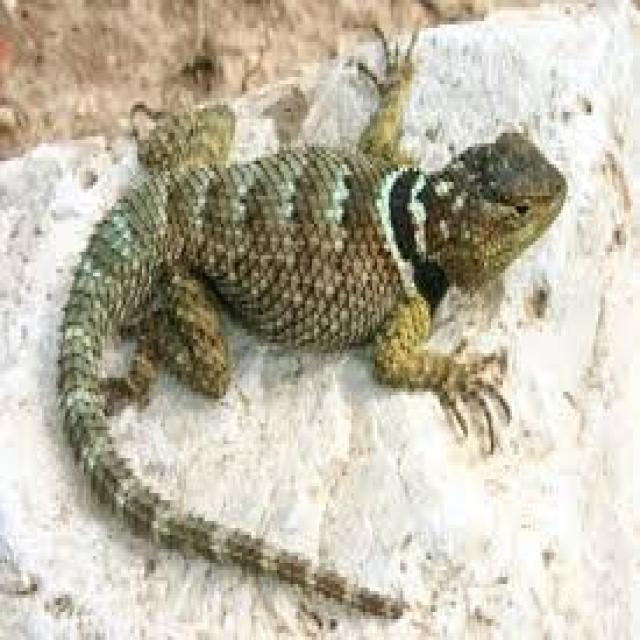Lizard: (56, 38, 565, 608)
